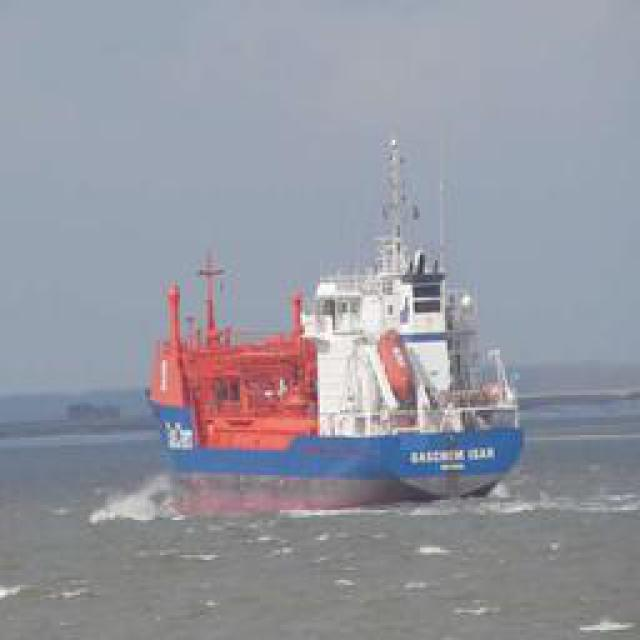Ship: (149, 141, 522, 511)
